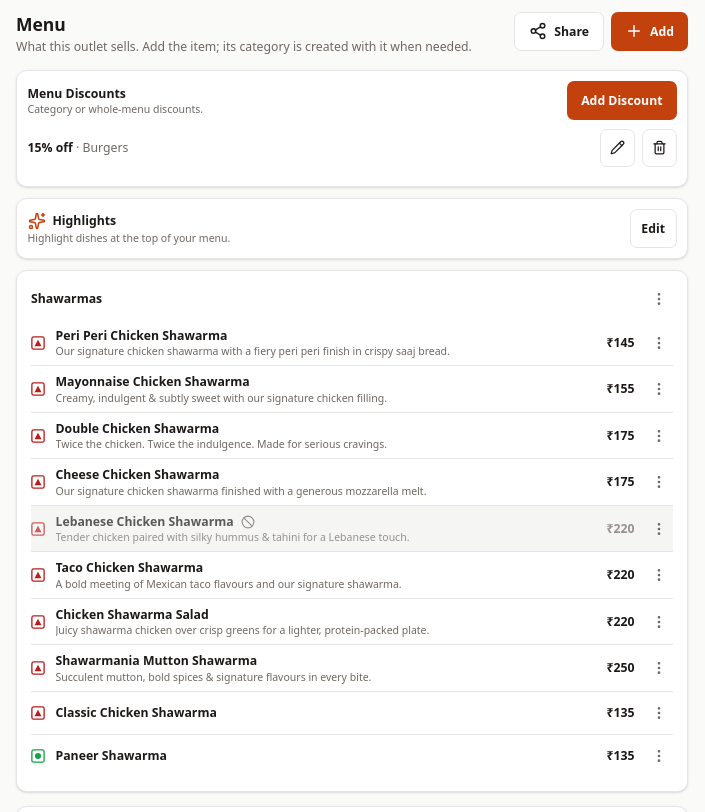
it: MenuSurface — the manager › uses the same approved controls through an adapter in real mode
This screenshot has width=705, height=812.
Expected: the element with test id "menu-highlights" is shown, left=16, top=198, right=688, bottom=259
Click the button named "Actions for Peri Peri Chicken Shawarma" at (659, 342), box left=651, top=334, right=667, bottom=350
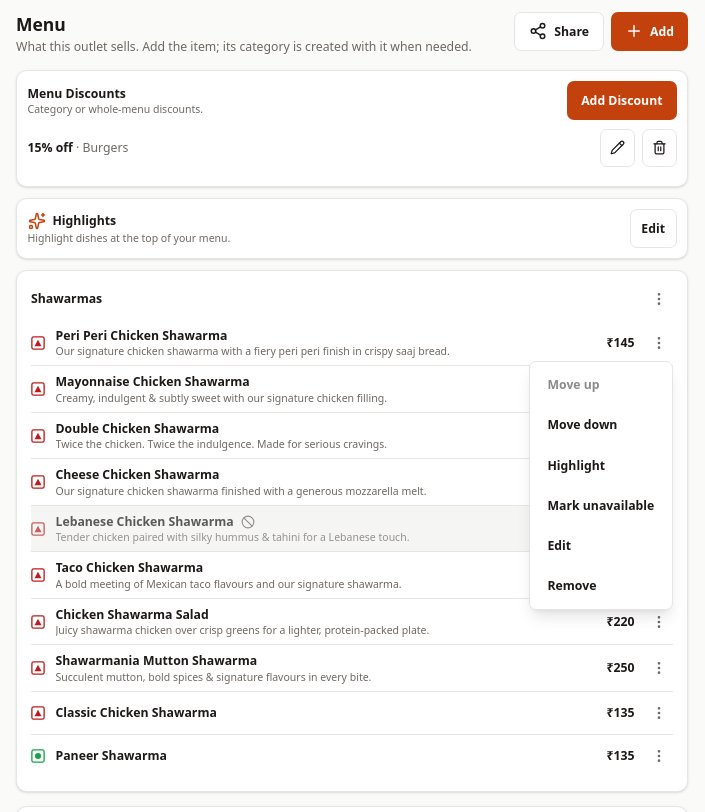
Now the button "Highlight" is shown, box left=534, top=446, right=668, bottom=484
Now the button "Move up" is disabled, box left=534, top=366, right=668, bottom=404
